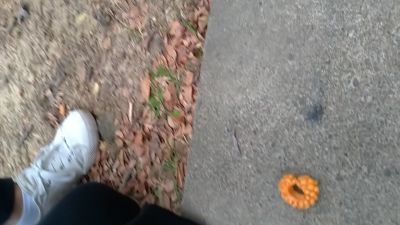eggs: (277, 172, 319, 210)
